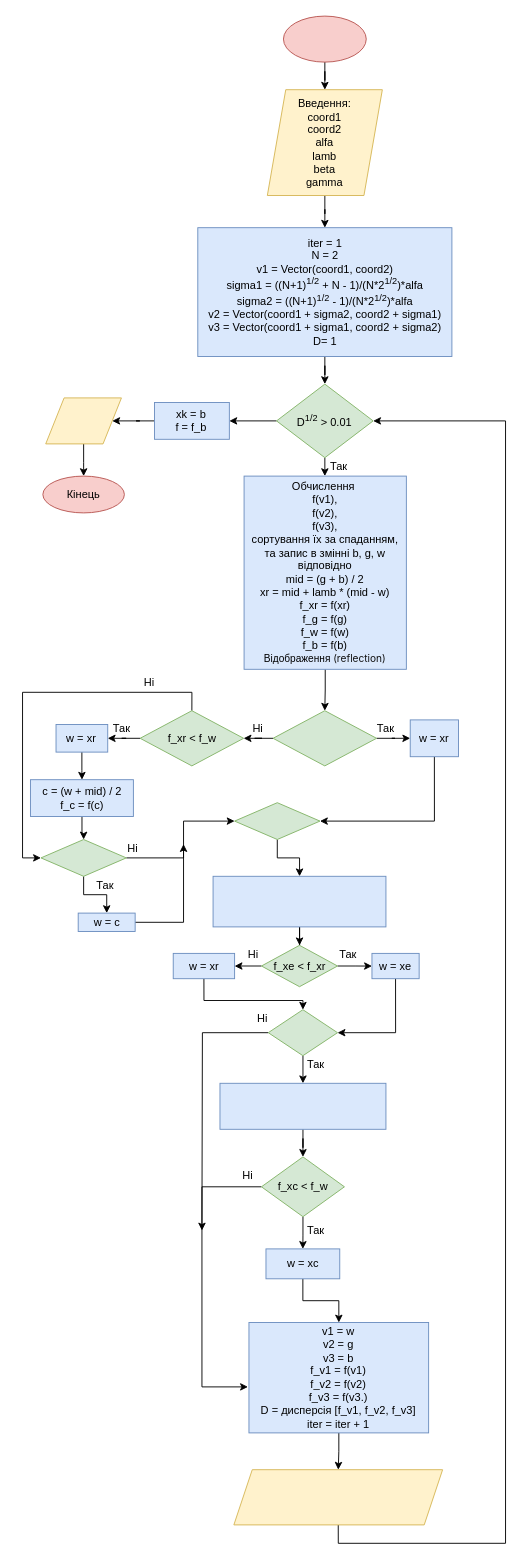
Some shapes in this 529 by 1567 pixel diagram are drawn without their labels. Here are the shapes that lost their labels. From the top down, the centre of each, then its label:
point (324, 38): Старт
point (83, 420): Вивід xk, f
point (324, 738): f_xr < f_g
point (277, 821): f_xr < f_b
point (83, 857): f_c < f_w
point (299, 901): Розтягування (expansion) xe = mid + gamma * (xr - mid) f_xe = f(xe)
point (302, 1032): f_xr > f_g
point (302, 1105): Cтиск (contract) xc = mid + beta * (w - mid) f_xc = f(xc)
point (338, 1497): Вивід проміжних результатів: iter, v3, f_v3, v2, f_v2, v1, f_v1, eps
